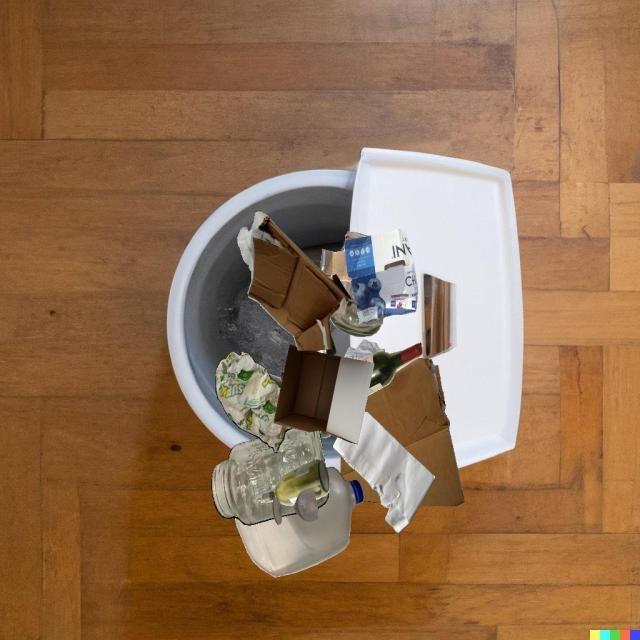cardboard: (237, 211, 358, 351), (364, 358, 464, 506), (273, 345, 374, 444), (320, 229, 418, 326)
glass: (211, 428, 326, 512), (358, 343, 423, 396), (261, 459, 330, 506), (344, 240, 383, 320), (330, 298, 380, 337), (272, 490, 318, 524), (312, 335, 336, 356), (269, 374, 282, 388), (319, 431, 332, 438)
paper: (333, 412, 435, 533), (216, 352, 292, 453), (344, 339, 384, 360)
plastic: (235, 467, 364, 577)
